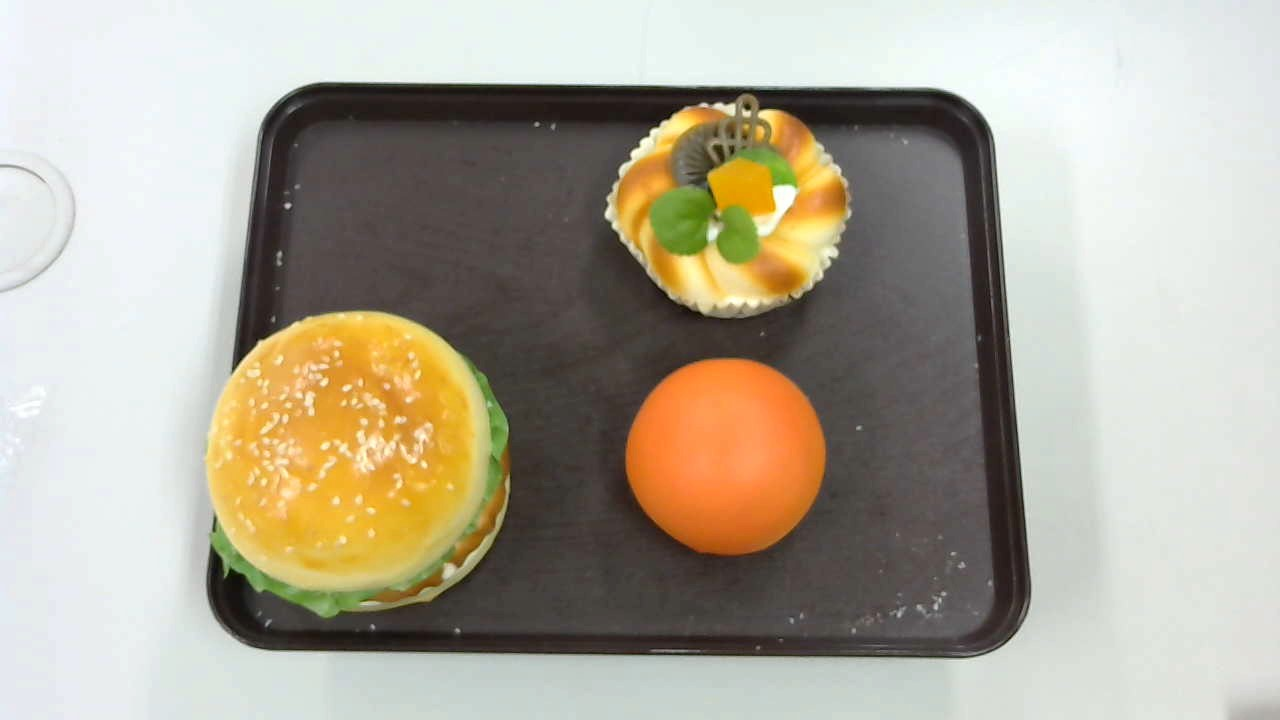bun: (625, 356, 827, 556)
fruit tart: (605, 92, 852, 320)
hamburger: (205, 310, 512, 617)
